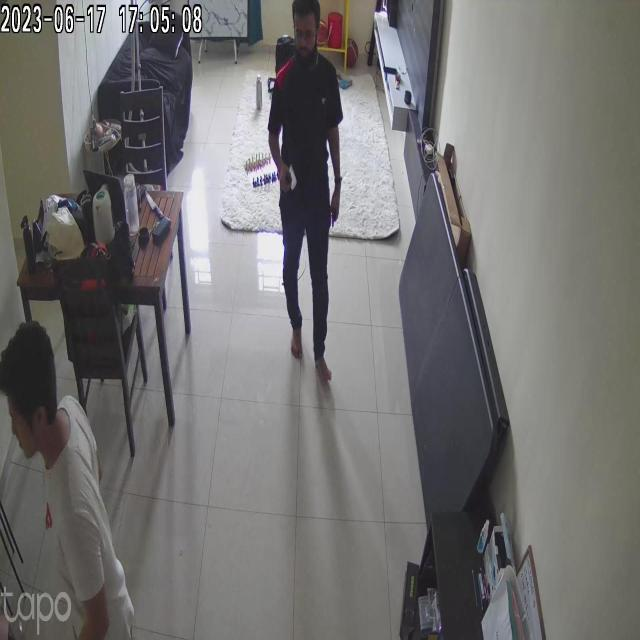Knife: (146, 184, 166, 218)
